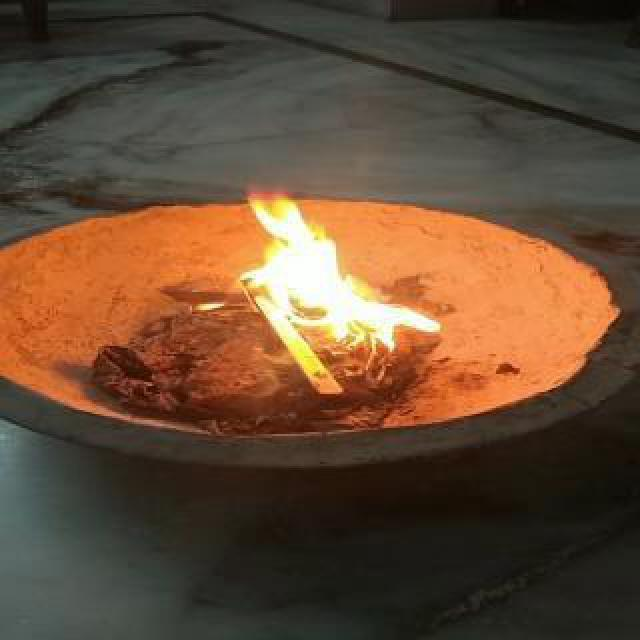Fire: (230, 186, 458, 352)
